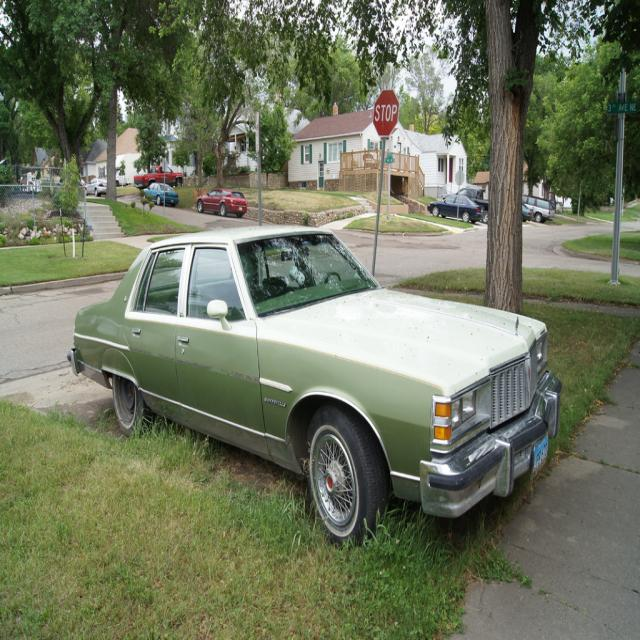car: (80, 225, 554, 542), (197, 184, 245, 217), (425, 196, 481, 224), (141, 180, 177, 205)
